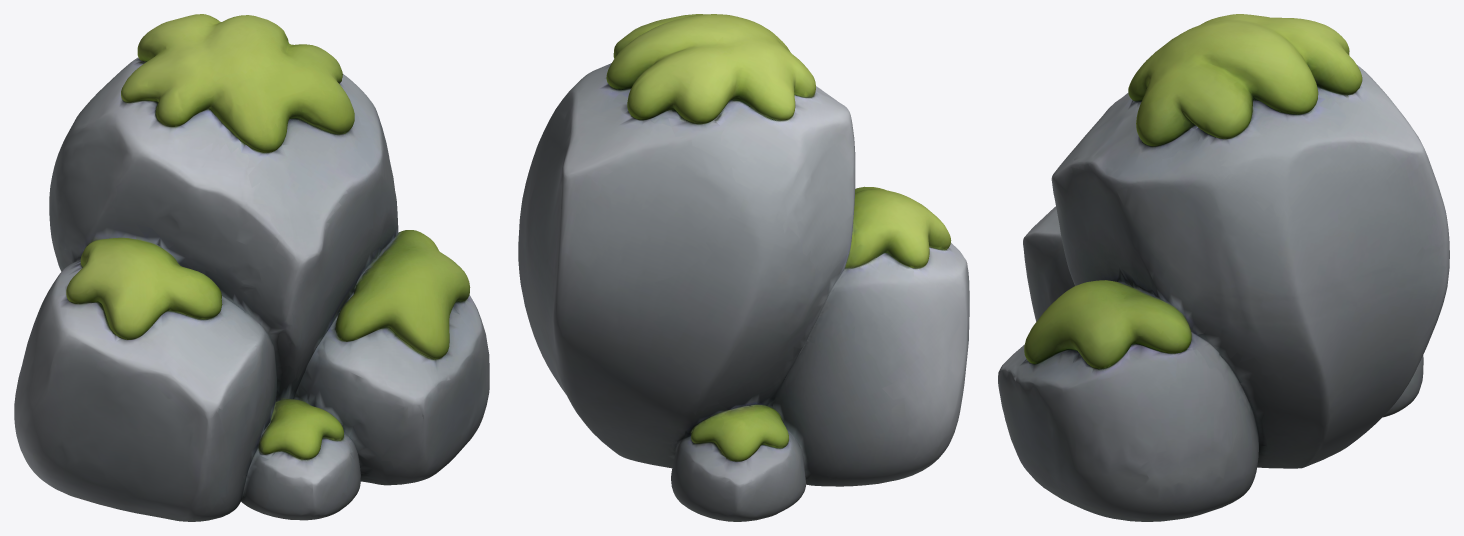
File: 07_rock.glb
3 renders of one model, left to right at view 1: azimuth 30°, elevation 25°; view 2: azimuth 150°, elevation 25°; view 3: azimuth 270°, elevation 25°, orthographic. The views are drawn at different scales.
Visible parts, largest first — view 1: node_0; view 2: node_0; view 3: node_0.
Boxes of the visible parts, box(x1,y1,x2,y2) form: node_0: box(14, 14, 489, 521); node_0: box(518, 14, 969, 521); node_0: box(998, 14, 1449, 521).
Size of the model in its own units: 1.1 by 1 by 0.9925.
Materials: 1 (1 with a texture image).
